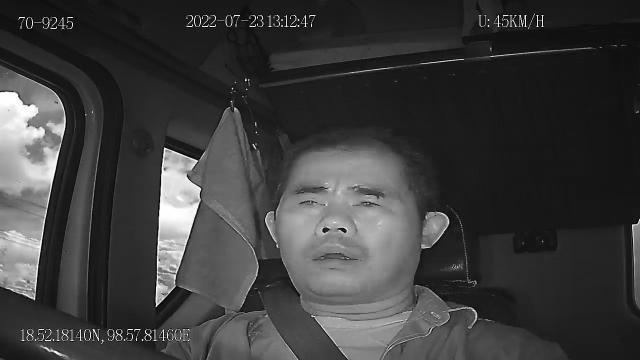SafeDriving: (344, 187, 391, 216), (290, 188, 332, 214)
Seatbelt: (256, 284, 350, 360)
